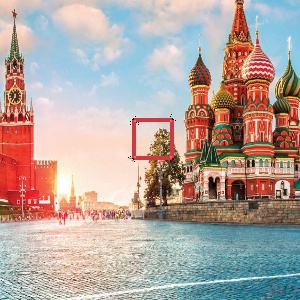square: (130, 116, 176, 161)
